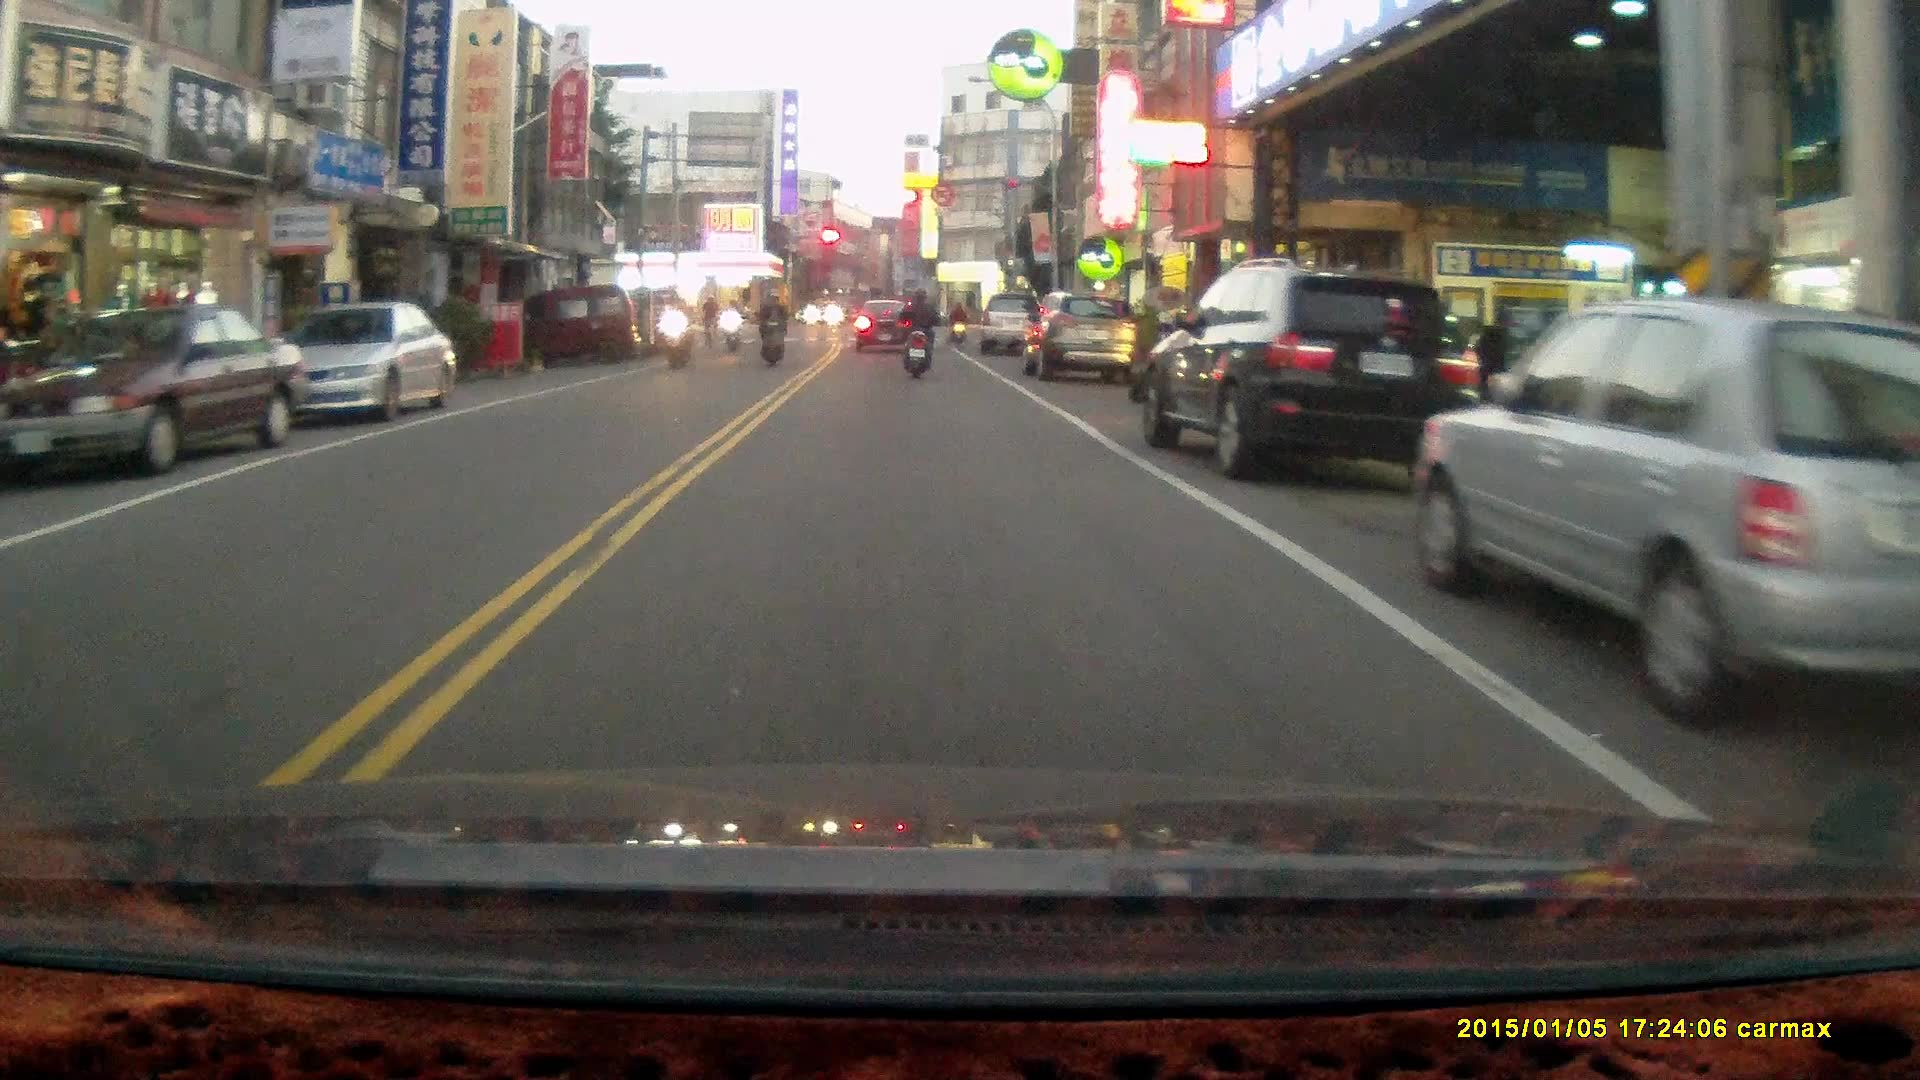pedestrian: (1473, 309, 1514, 436)
rider: (895, 285, 936, 379), (756, 291, 787, 368), (662, 291, 692, 371), (697, 291, 720, 351), (719, 295, 743, 351), (946, 299, 968, 344)
vehicle: (1415, 296, 1920, 736), (1147, 257, 1478, 483), (3, 301, 318, 475), (266, 301, 458, 426), (1020, 293, 1138, 379), (547, 284, 651, 358), (980, 290, 1054, 356)
